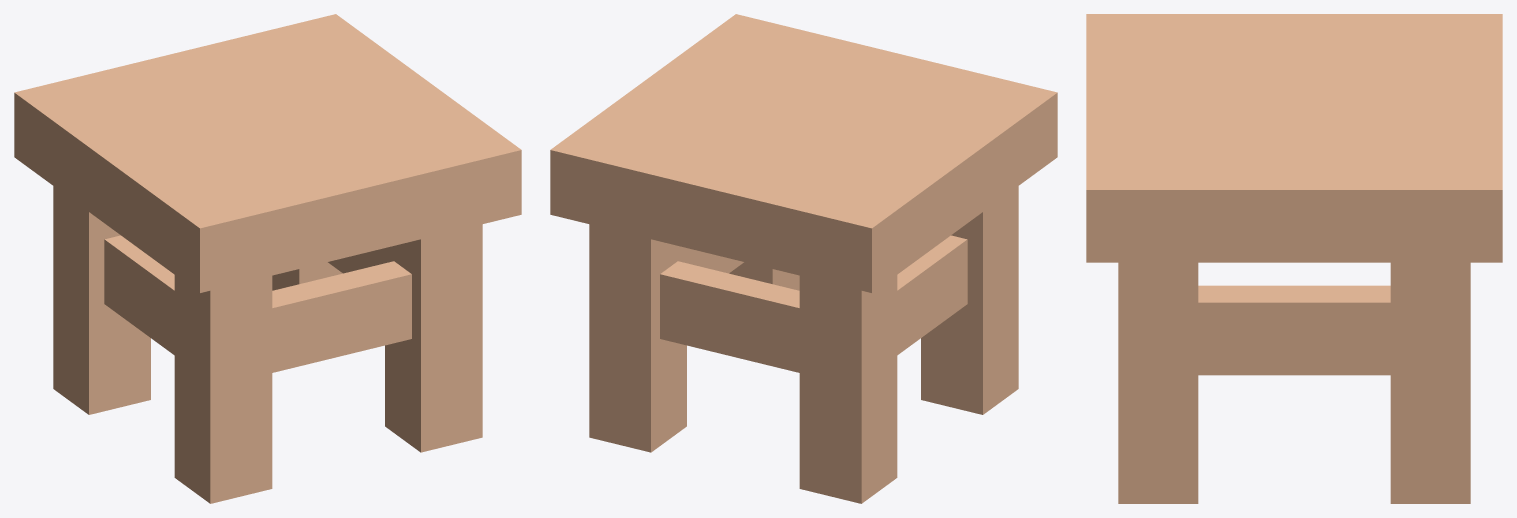
File: stall_stool.glb
3 renders of one model, left to right at view 1: azimuth 30°, elevation 25°; view 2: azimuth 150°, elevation 25°; view 3: azimuth 270°, elevation 25°, orthographic. The views are drawn at different scales.
Parts seen in each view (by area): view 1: stallStool; view 2: stallStool; view 3: stallStool.
Part boxes in pixels (x1,y1,x2,y2): stallStool: (14,14,521,503); stallStool: (550,14,1057,503); stallStool: (1086,14,1502,503).
Size of the model in its own units: 0.26 by 0.2255 by 0.26.
